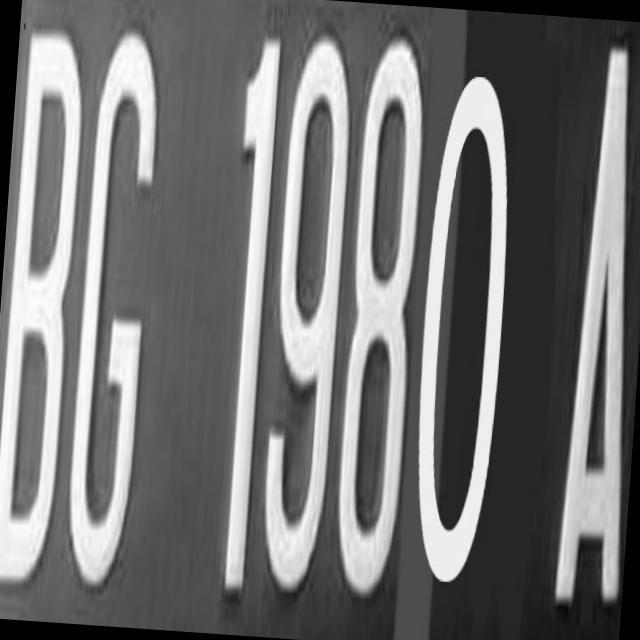0: (406, 63, 535, 602)
1: (196, 24, 294, 614)
8: (326, 25, 444, 618)
9: (256, 28, 358, 604)
A: (531, 31, 640, 618)
B: (0, 22, 82, 586)
G: (68, 29, 170, 586)
